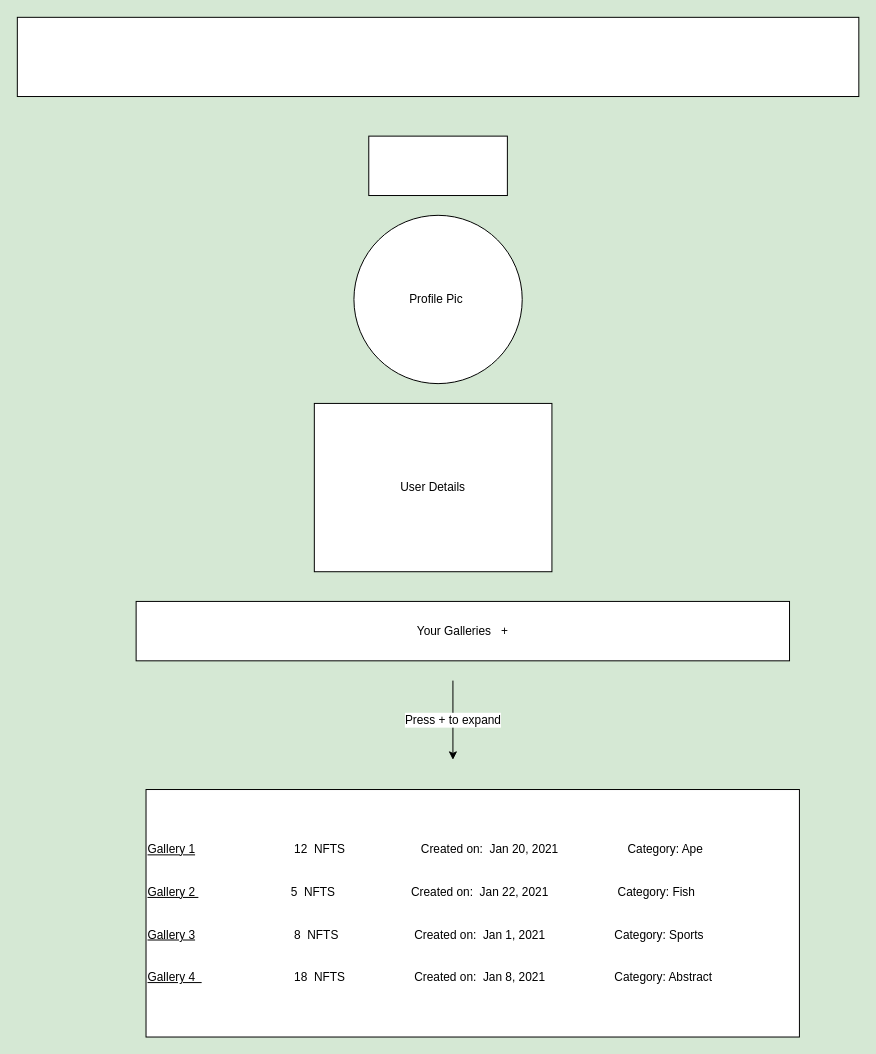
The diagram is 876 pixels wide and 1054 high, and some of its shapes have lost their labels. Here are the shapes that lost their labels. From the top down, the centre of each, then its label:
[437,56]: View Galleries Create Gallery + Profile Avatar Log-out
[437,165]: Welcome User
